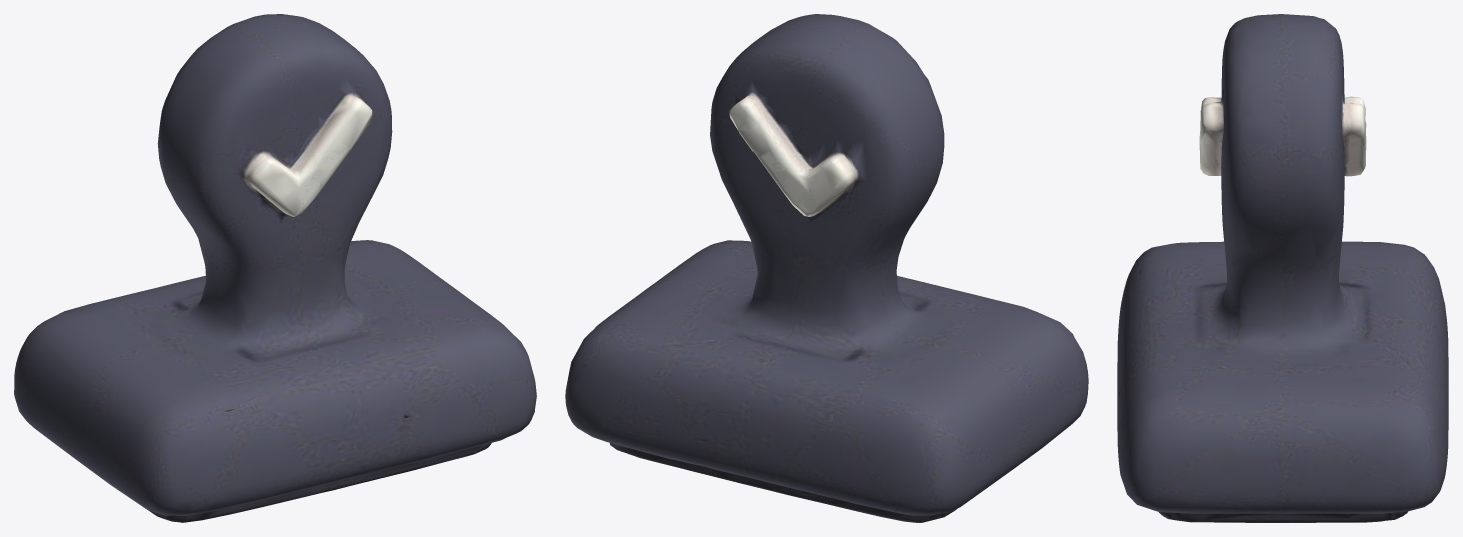
3 views of the same model, side by side, from view 1: azimuth 30°, elevation 25°; view 2: azimuth 150°, elevation 25°; view 3: azimuth 270°, elevation 25° (orthographic).
Parts seen in each view (by area): view 1: tripo_node_769e05cd-8f81-4f75-93e9-0c17773b5f08; view 2: tripo_node_769e05cd-8f81-4f75-93e9-0c17773b5f08; view 3: tripo_node_769e05cd-8f81-4f75-93e9-0c17773b5f08.
Boxes of the visible parts, x1,y1,x2,y2 form: tripo_node_769e05cd-8f81-4f75-93e9-0c17773b5f08: (14,14,536,522); tripo_node_769e05cd-8f81-4f75-93e9-0c17773b5f08: (565,14,1088,522); tripo_node_769e05cd-8f81-4f75-93e9-0c17773b5f08: (1117,14,1448,522).
Bounding box in the file's own units: 0.9752 × 0.979 × 0.7027.
Materials: 1 (1 with a texture image).
